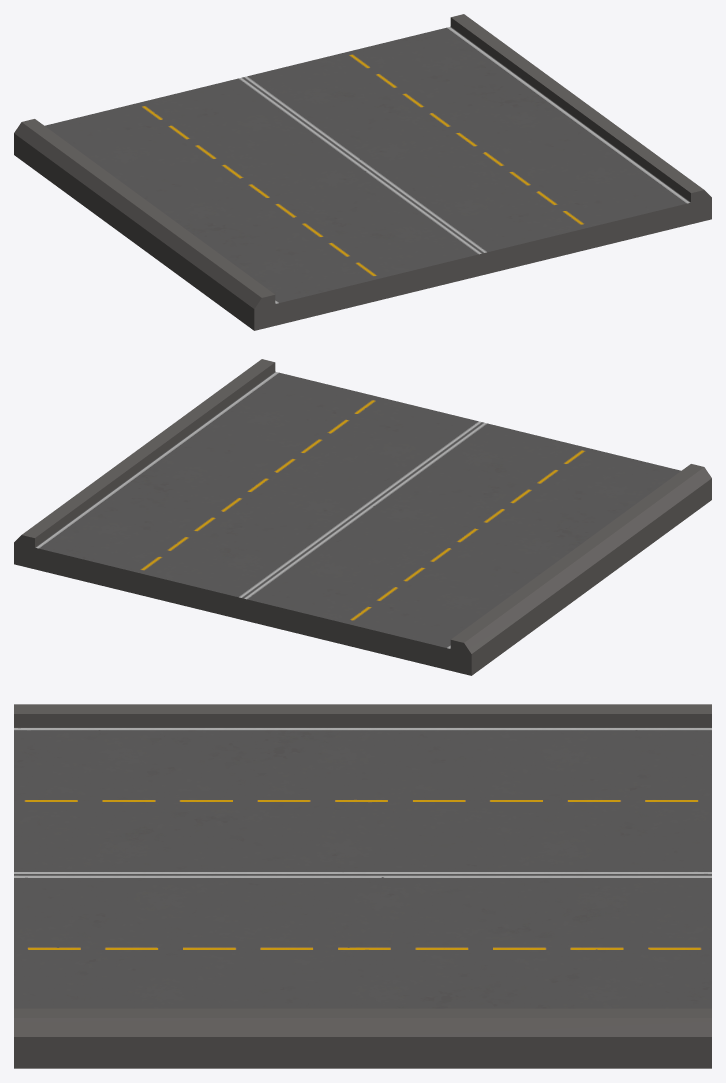
Rendered from SM_Floor_Road_23.fbx.
3 renders of one model, top to bottom at view 1: azimuth 30°, elevation 25°; view 2: azimuth 150°, elevation 25°; view 3: azimuth 270°, elevation 25°, orthographic. The views are drawn at different scales.
Parts seen in each view (by area): view 1: SM_Floor_Road_23; view 2: SM_Floor_Road_23; view 3: SM_Floor_Road_23.
Part boxes in pixels (x1=…): SM_Floor_Road_23: x1=14, y1=14, x2=711, y2=330; SM_Floor_Road_23: x1=14, y1=359, x2=711, y2=675; SM_Floor_Road_23: x1=14, y1=704, x2=711, y2=1068.
Size of the model in its own units: 10.99 by 0.7155 by 10.
